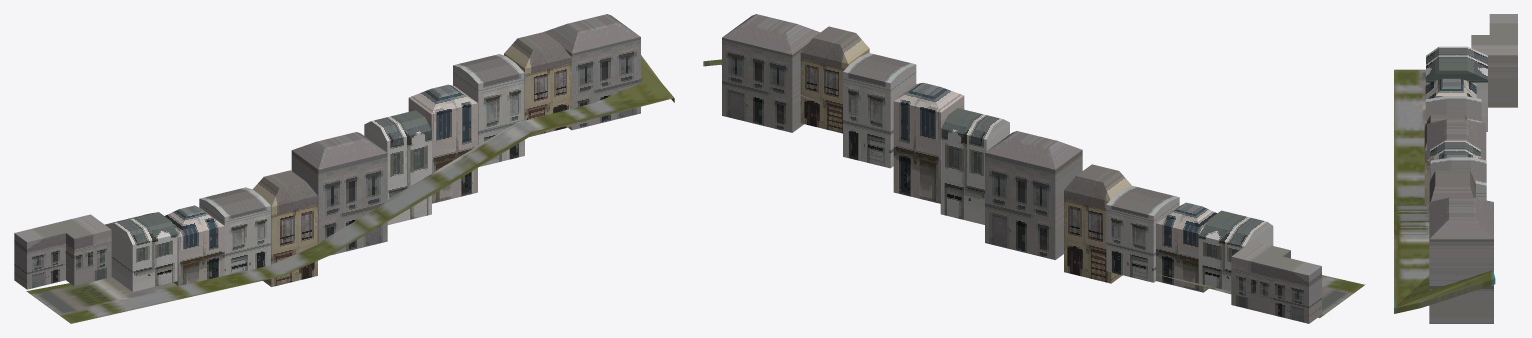
Rendered from lodbox_sfw43.obj.
3 views of the same model, side by side, from view 1: azimuth 30°, elevation 25°; view 2: azimuth 150°, elevation 25°; view 3: azimuth 270°, elevation 25° (orthographic). The views are drawn at different scales.
Visible parts, largest first — view 1: LODbox_sfw43; view 2: LODbox_sfw43; view 3: LODbox_sfw43.
Boxes of the visible parts, x1,y1,x2,y2 form: LODbox_sfw43: (14, 14, 674, 323); LODbox_sfw43: (703, 14, 1365, 323); LODbox_sfw43: (1394, 14, 1517, 323).
Size of the model in its own units: 107 by 28.72 by 17.18.
Materials: 7 (7 with a texture image).
